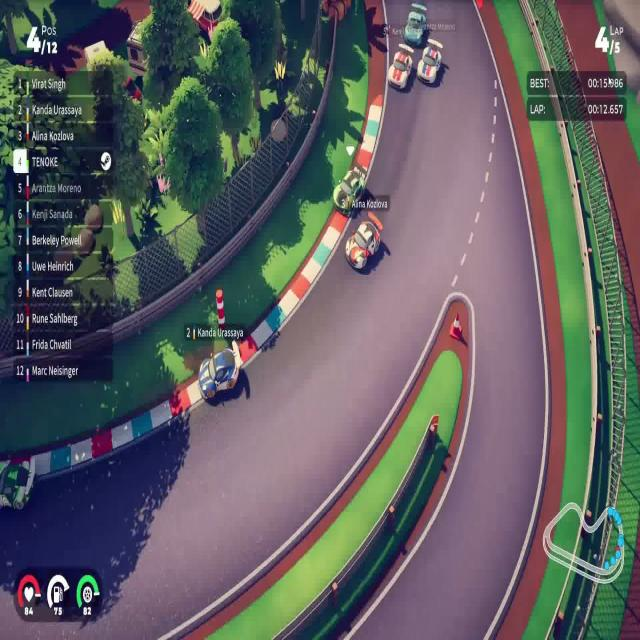car: (198, 340, 241, 400), (344, 210, 384, 272), (332, 163, 368, 216), (416, 42, 443, 85), (387, 46, 413, 90)
